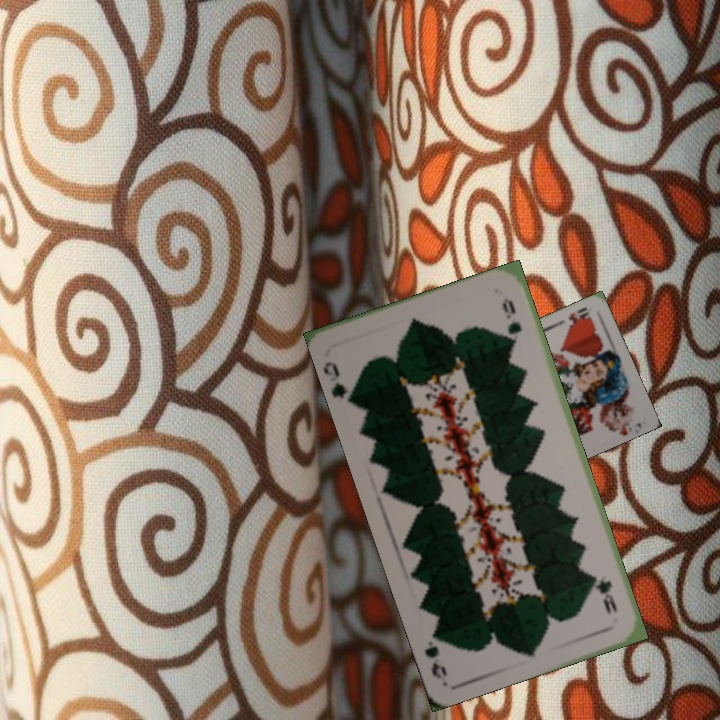G9: (320, 357, 358, 406), (590, 571, 620, 618)
HO: (564, 303, 593, 329)
